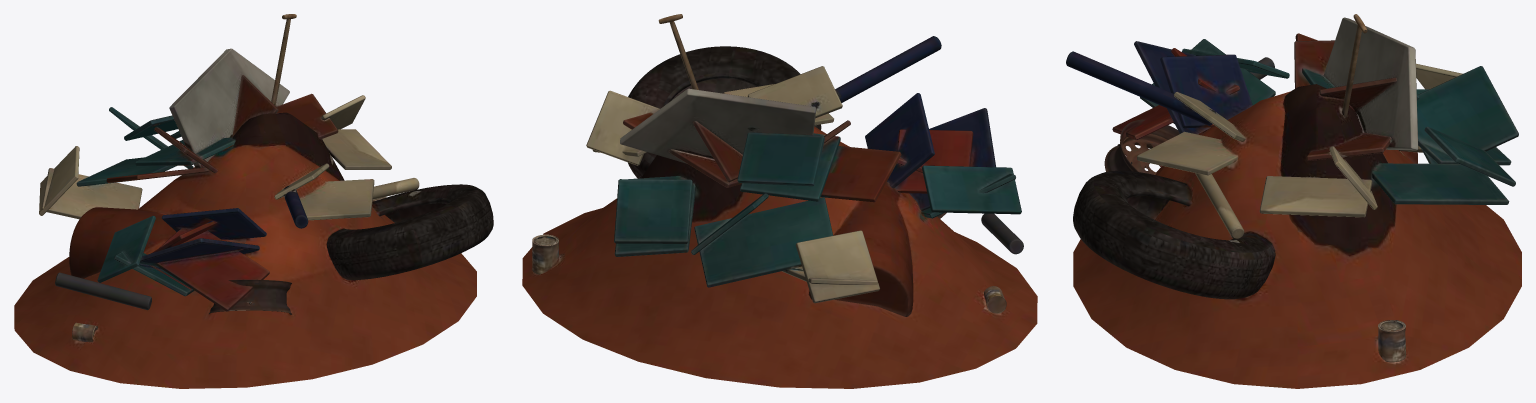
The model's file is scrap_pile.glb.
The picture shows the model from 3 angles, left to right: view 1: azimuth 30°, elevation 25°; view 2: azimuth 150°, elevation 25°; view 3: azimuth 270°, elevation 25°; orthographic projection. The views are drawn at different scales.
Parts seen in each view (by area): view 1: scrap_pile; view 2: scrap_pile; view 3: scrap_pile.
Part boxes in pixels (box(x1,y1,x2,y2)): scrap_pile: box(14, 14, 493, 388); scrap_pile: box(522, 14, 1037, 388); scrap_pile: box(1066, 14, 1521, 388).
Bounding box in the file's own units: 3 × 1.7 × 2.41.
1 material, 1 textured.
